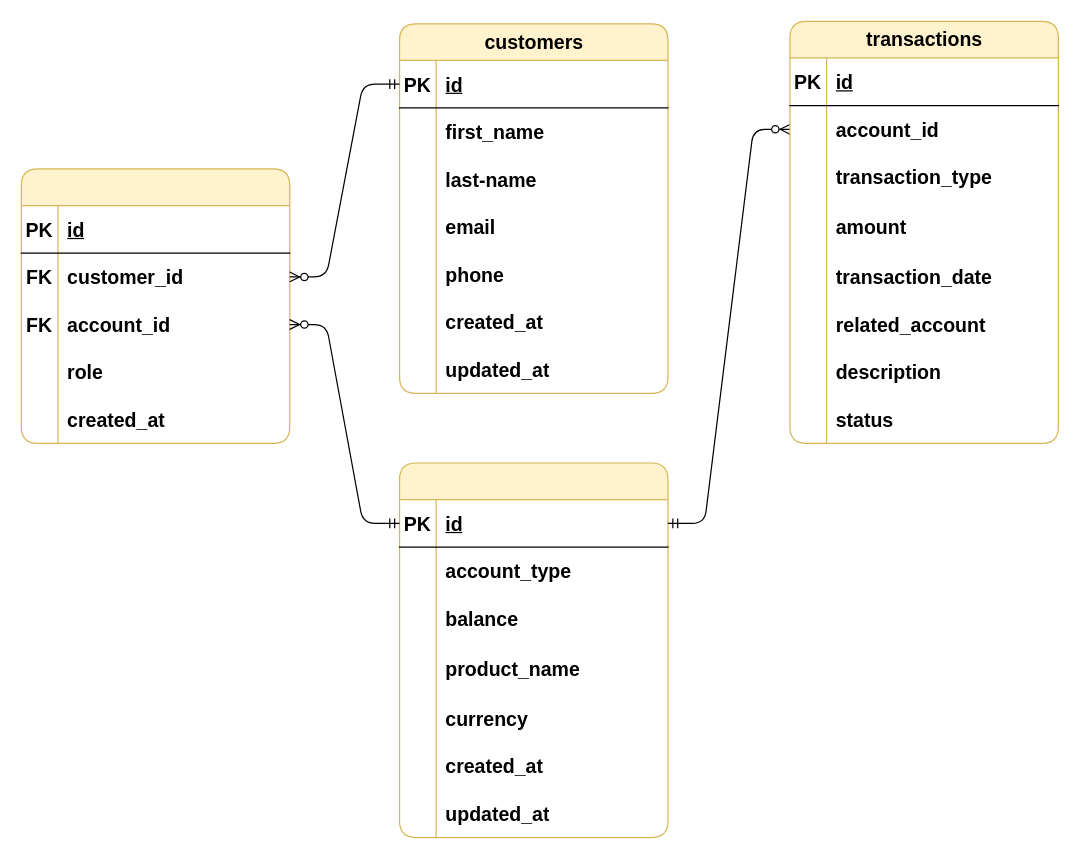
The diagram is 1080 pixels wide and 859 high, and some of its shapes have lost their labels. Each missing label, with the box of its shape:
accounts: (398, 462, 668, 838)
customers_accounts: (20, 168, 290, 443)
